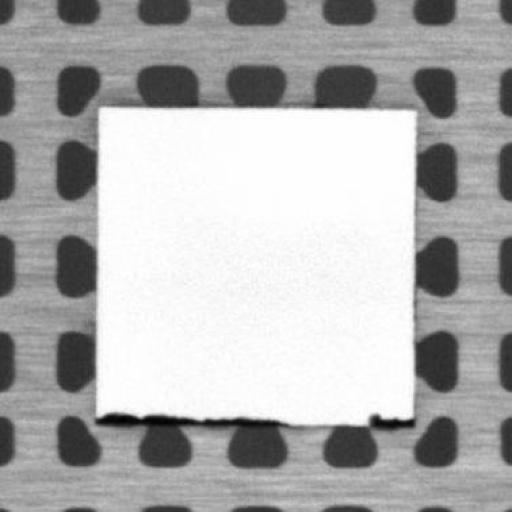DIE_BROKEN: (92, 409, 293, 427), (366, 410, 417, 428)
